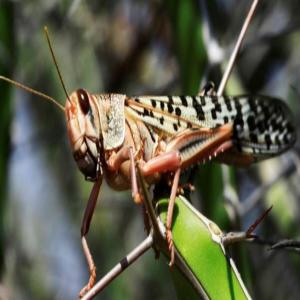locust: (56, 51, 295, 259)
